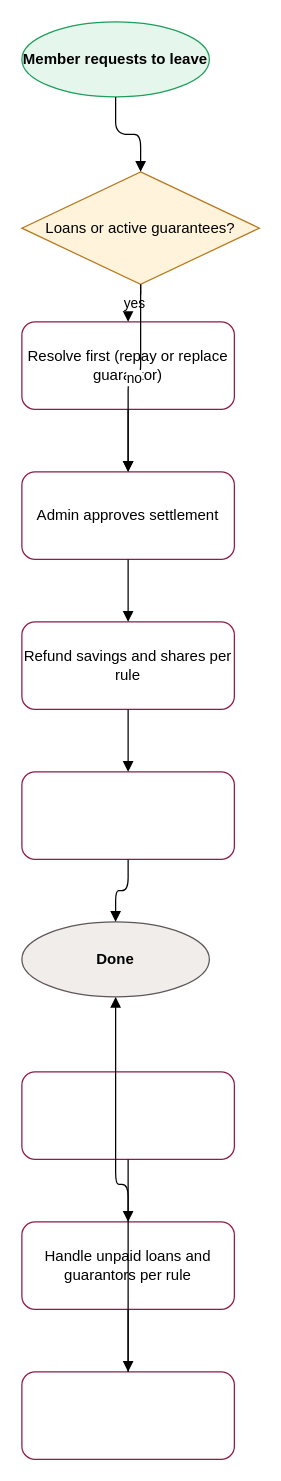
This 281x1481 diagram has some shape labels left out. The shapes that lost their labels are listed below. From the top down, each one's box as (x1, y1, x2, y2) in pixels, then its label:
(21, 771, 234, 859): Close membership; notify
(21, 1071, 234, 1159): Dissolution: freeze new activity; settle all members
(21, 1371, 234, 1459): Close cooperative account after final reconciliation
